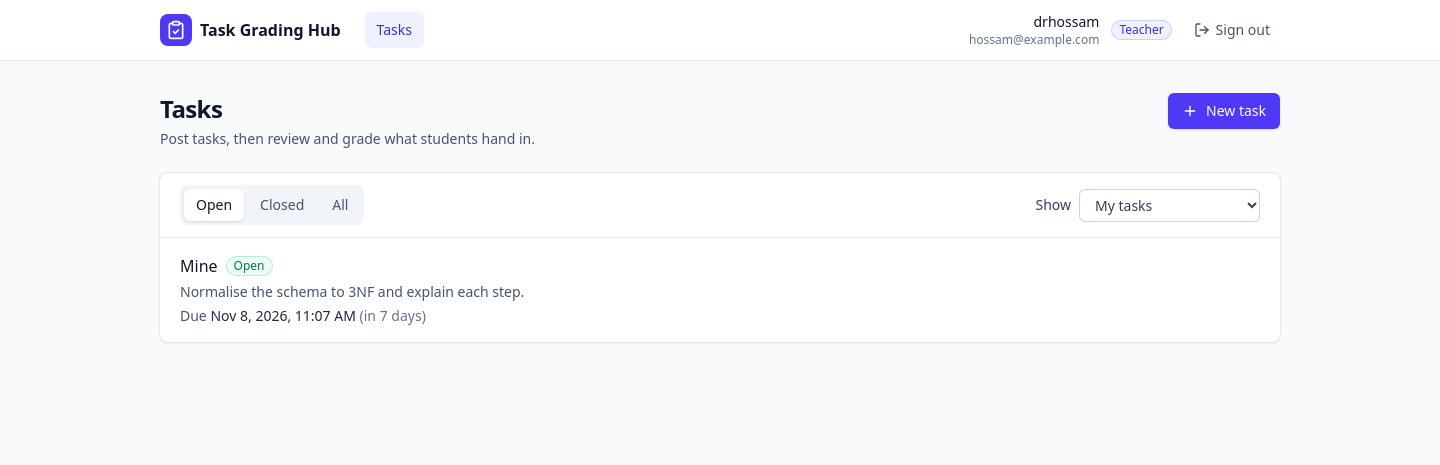
Scenario: task list › starts a teacher on their own tasks and can show everyone's
Expected: the link "Mine" is shown, x1=180 y1=254 x2=218 y2=278
Expected: the link "Theirs" is not shown
Select "All teachers' tasks" in the dropdown labelled "Show" at [1170, 205], box x1=1079 y1=188 x2=1260 y2=222
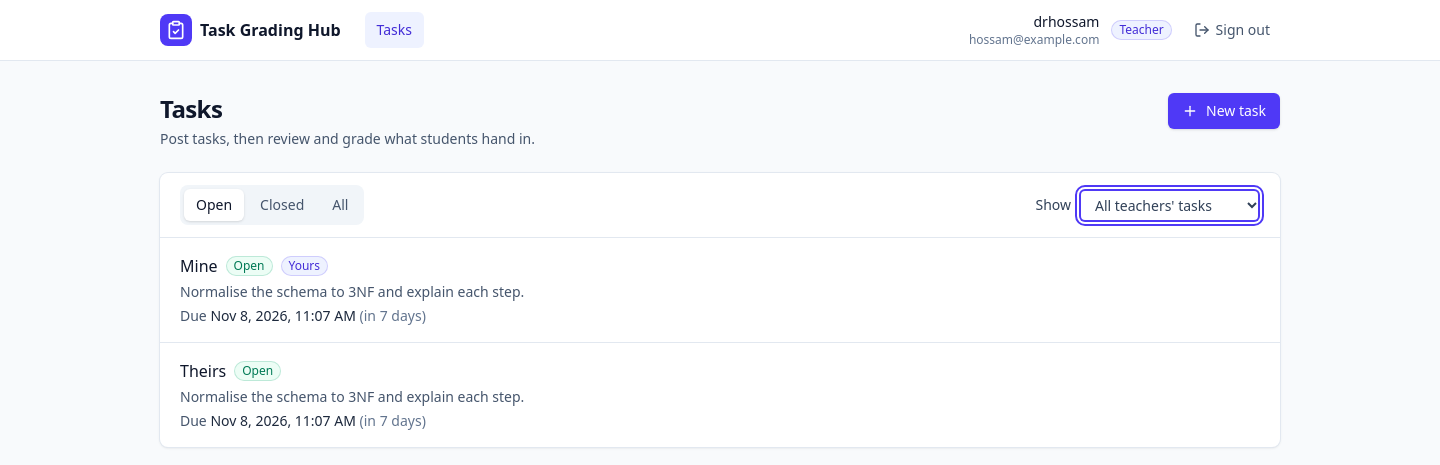
Expected: the link "Theirs" is shown, x1=180 y1=359 x2=226 y2=383
Expected: the text "Yours" is shown, x1=280 y1=256 x2=328 y2=276
